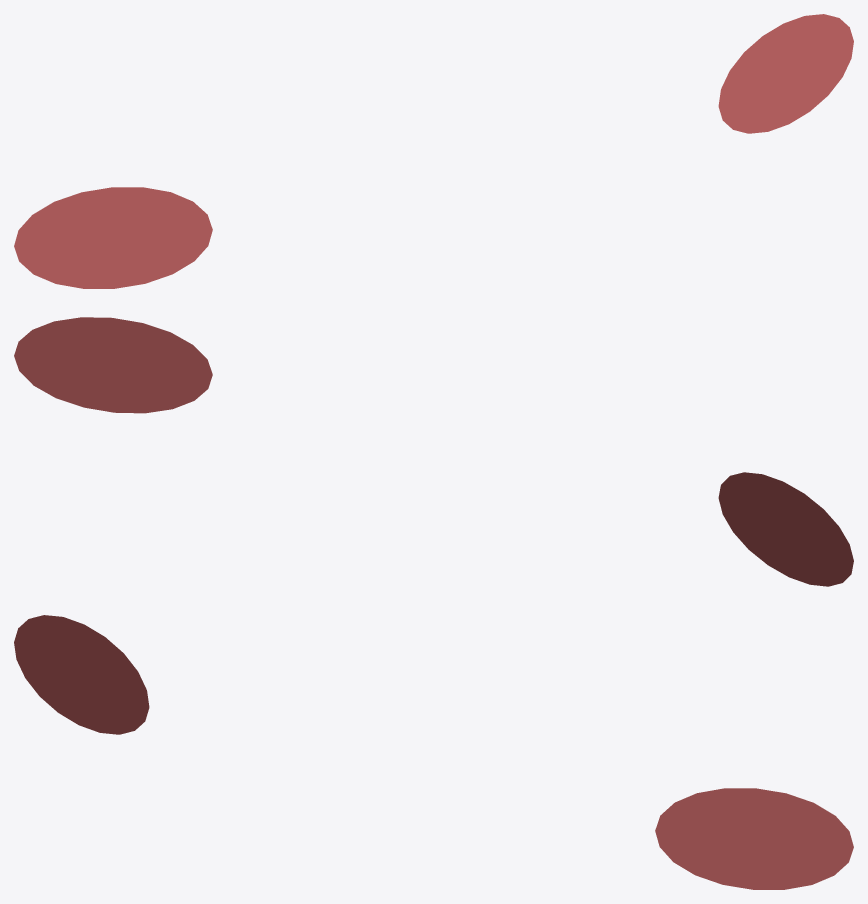
The model's file is cheek_1.fbx.
3 renders of one model, top to bottom at view 1: azimuth 30°, elevation 25°; view 2: azimuth 150°, elevation 25°; view 3: azimuth 330°, elevation 25°, orthographic.
Visible parts, largest first — view 1: cheek_1; view 2: cheek_1; view 3: cheek_1.
Boxes of the visible parts, bbox=[...] form: cheek_1: bbox=[14, 14, 853, 288]; cheek_1: bbox=[14, 317, 853, 586]; cheek_1: bbox=[14, 615, 853, 889].
Size of the model in its own units: 1.13 by 0.1264 by 0.0739.
